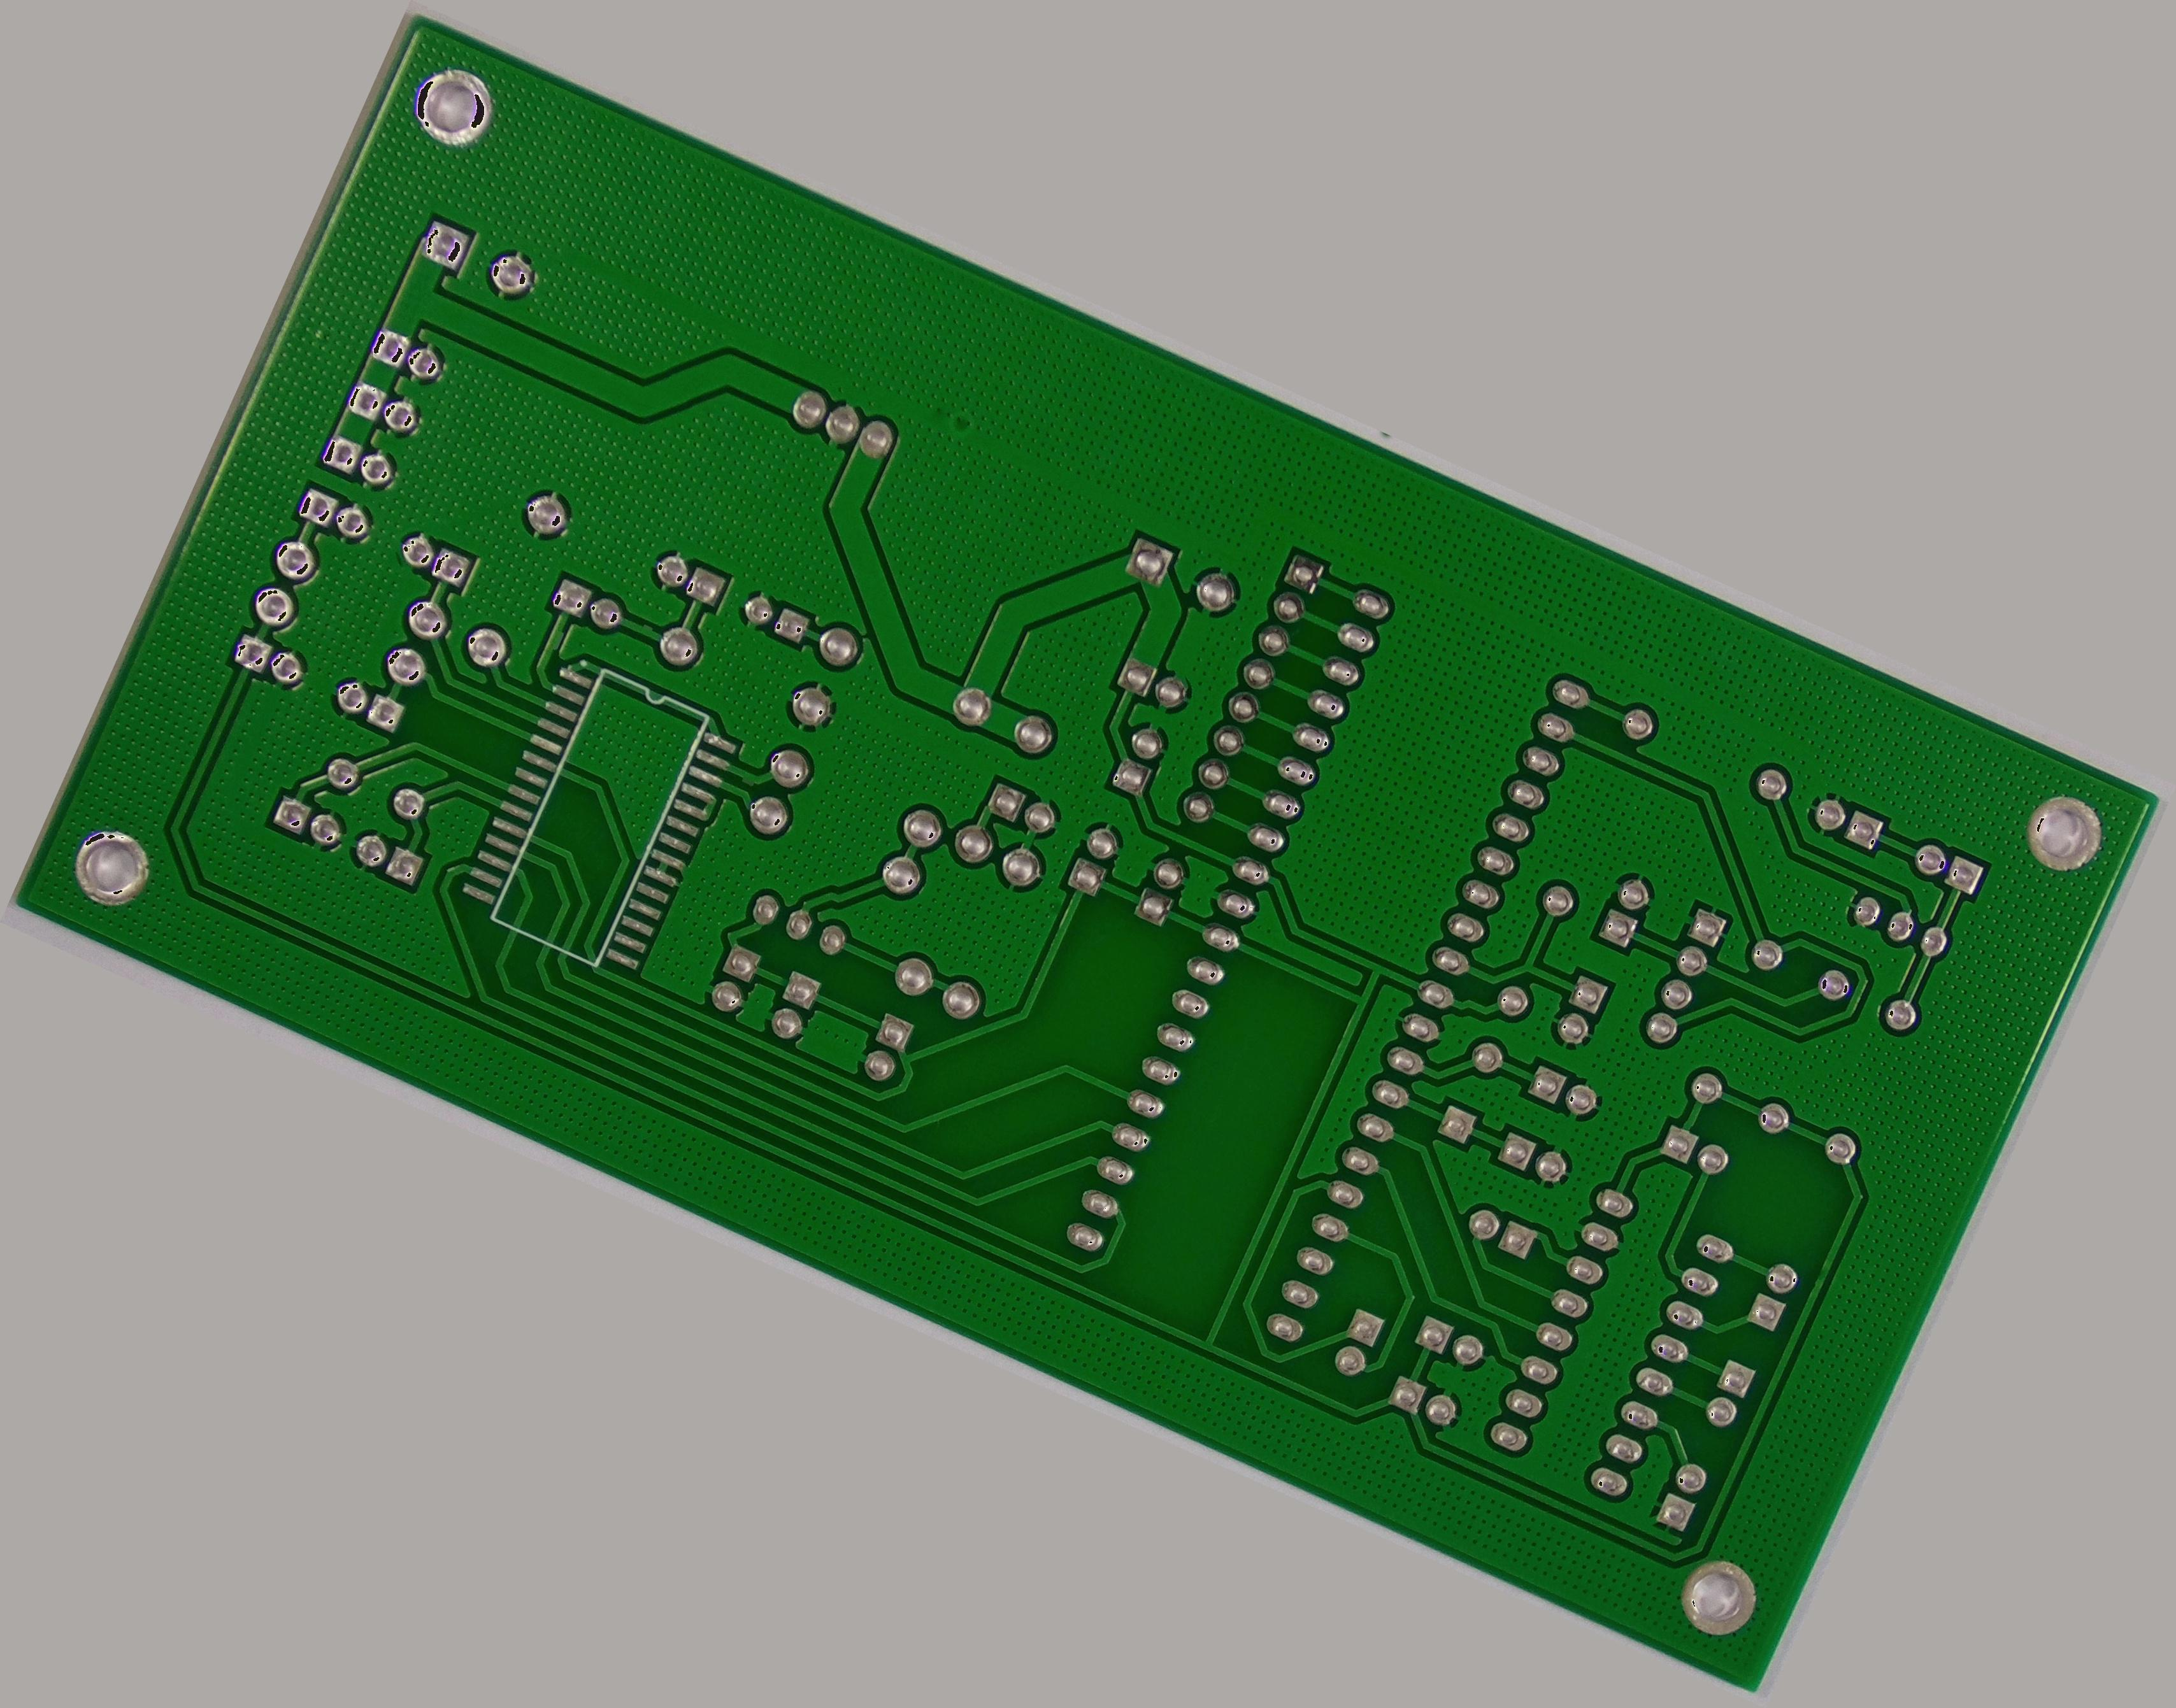spur: (729, 763, 767, 797), (539, 620, 572, 655), (629, 616, 662, 646)
